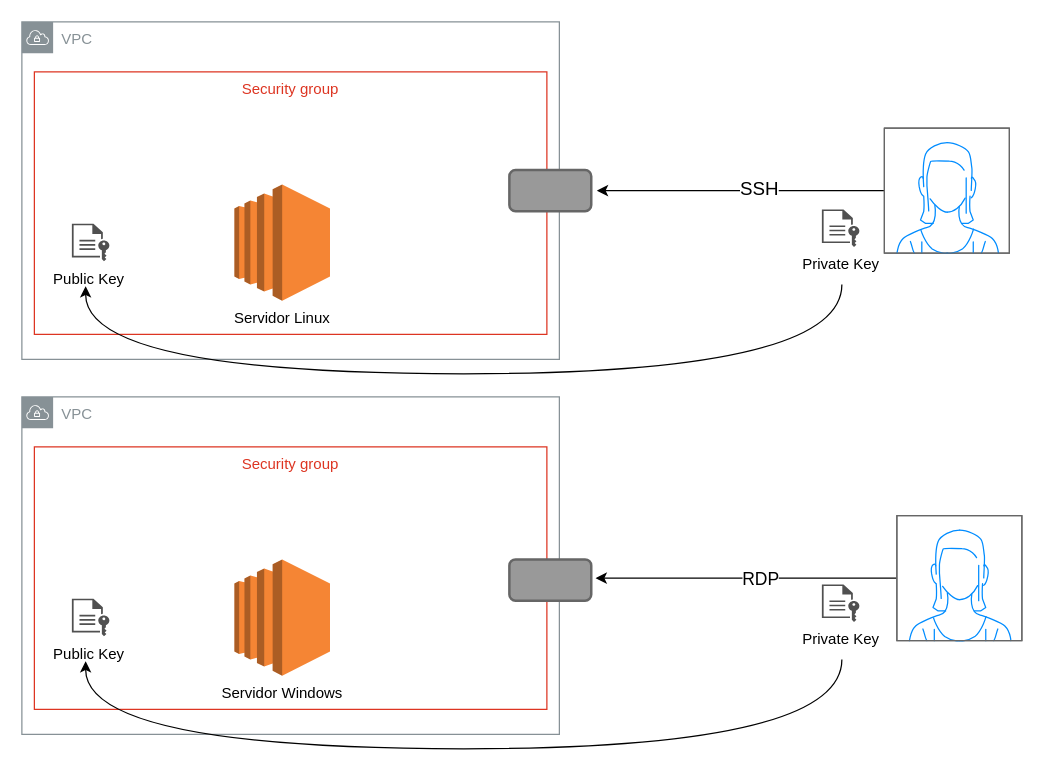
Image size: 1044x771. Some labels were removed from this diagram. Each missing label, with the box of its shape:
Porta: 22: (508, 168, 592, 212)
Porta: 3389: (508, 558, 592, 601)
